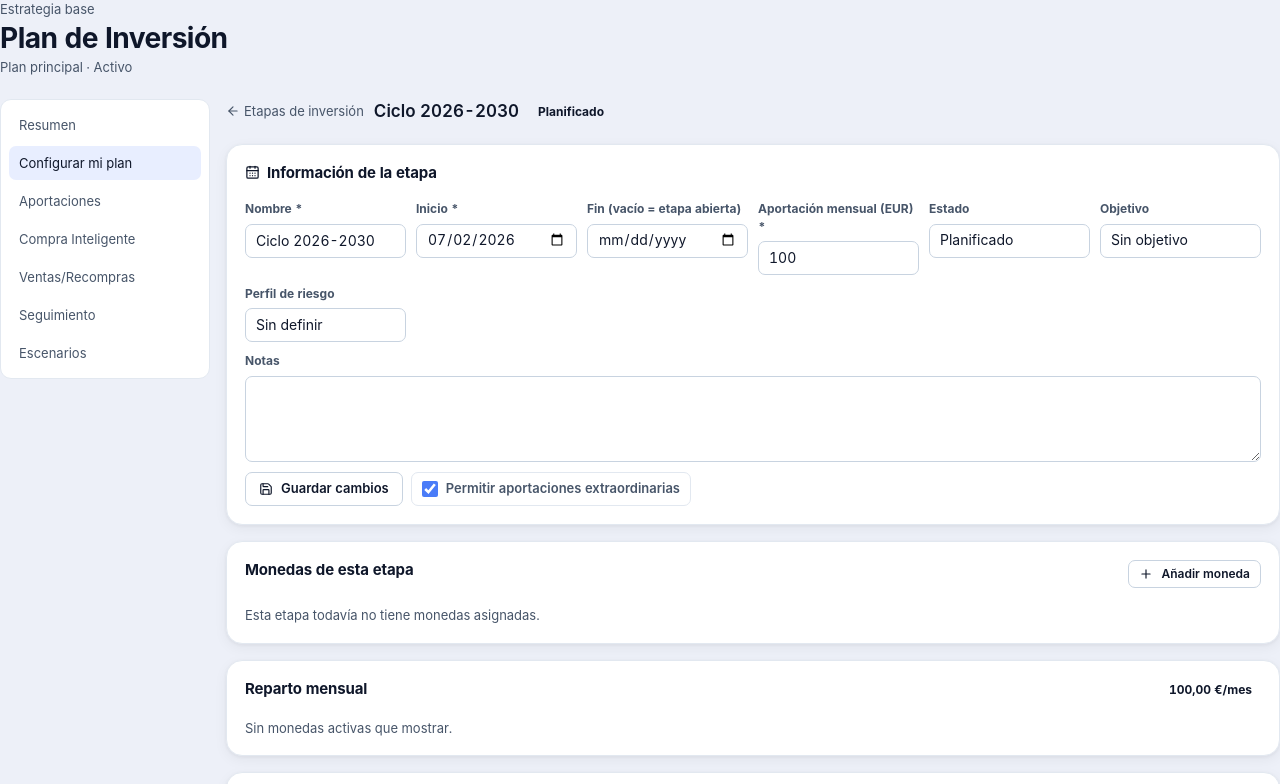
it: PlanEtapaDetalle — acceso por URL › valida fecha de fin anterior al inicio
Expected: the heading "Información de la etapa" is shown, [245,163,437,182]
In the date field labelled "Inicio *": (496, 240) [416,224,577,258], type "2026-06-01"
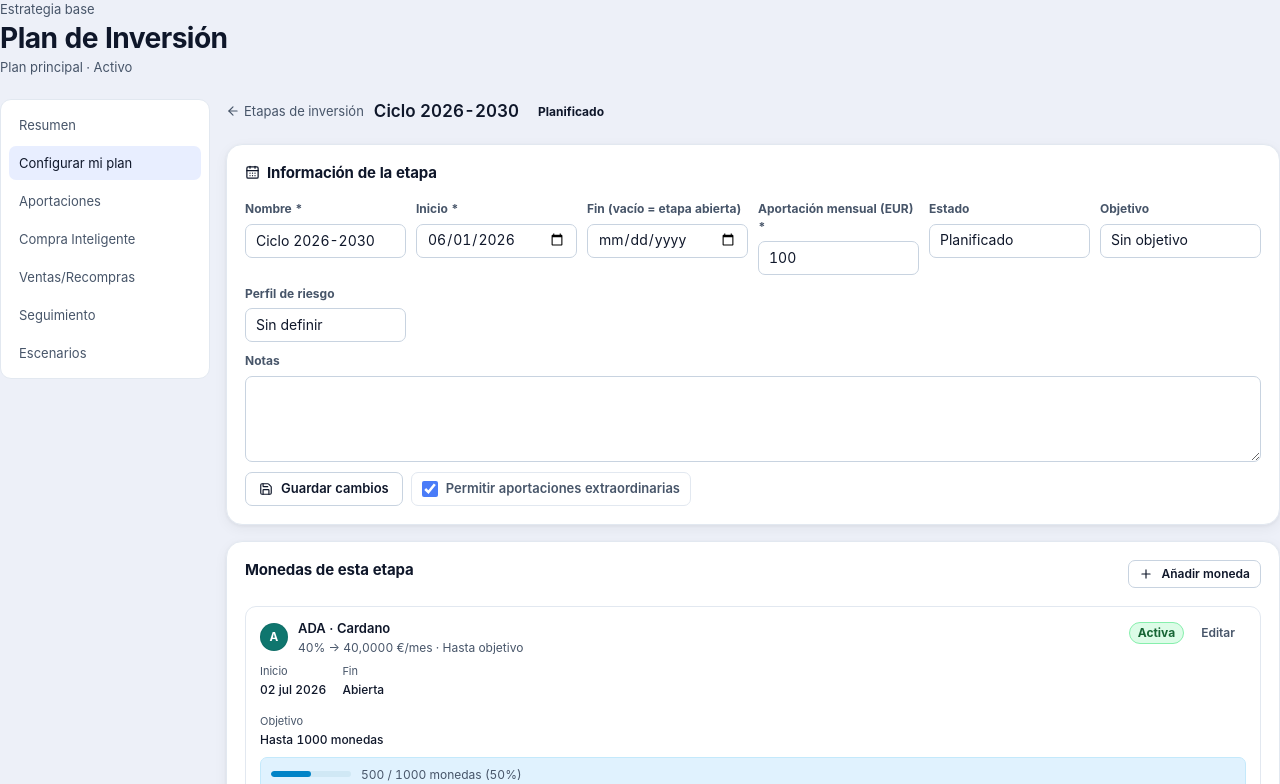
In the date field labelled "Fin (vacío = etapa abierta)": (668, 240) [587,224,748,258], type "2025-01-01"
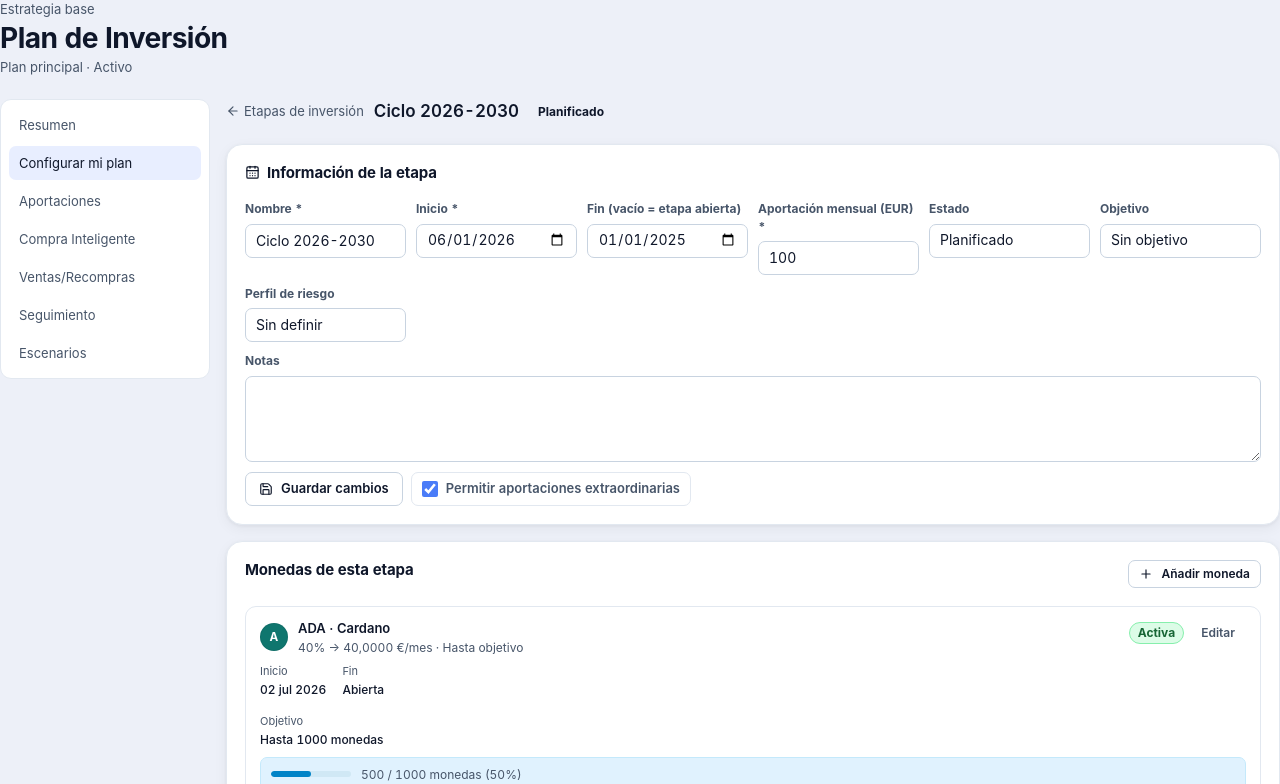
Click the button "Guardar cambios": (324, 489) [245,472,403,506]
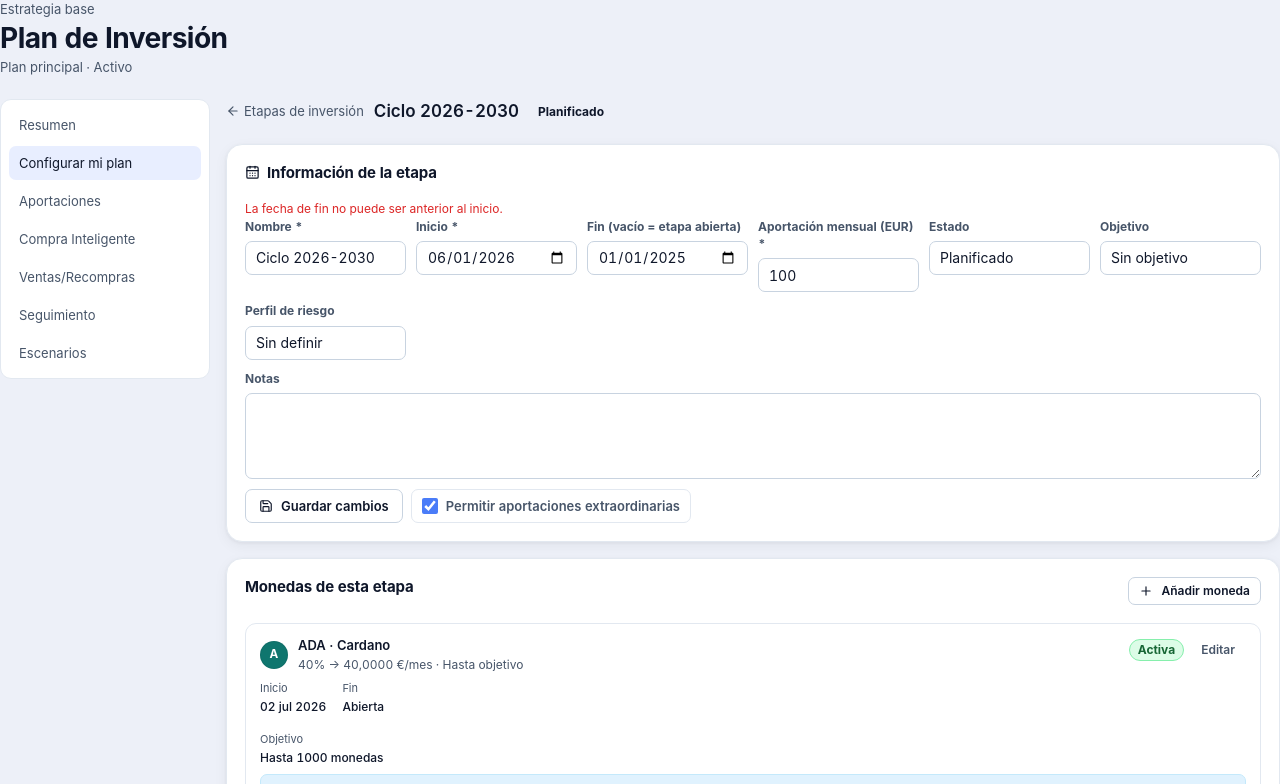
Expected: the text "La fecha de fin no puede ser anterior al inicio." is shown, [245,201,503,216]
